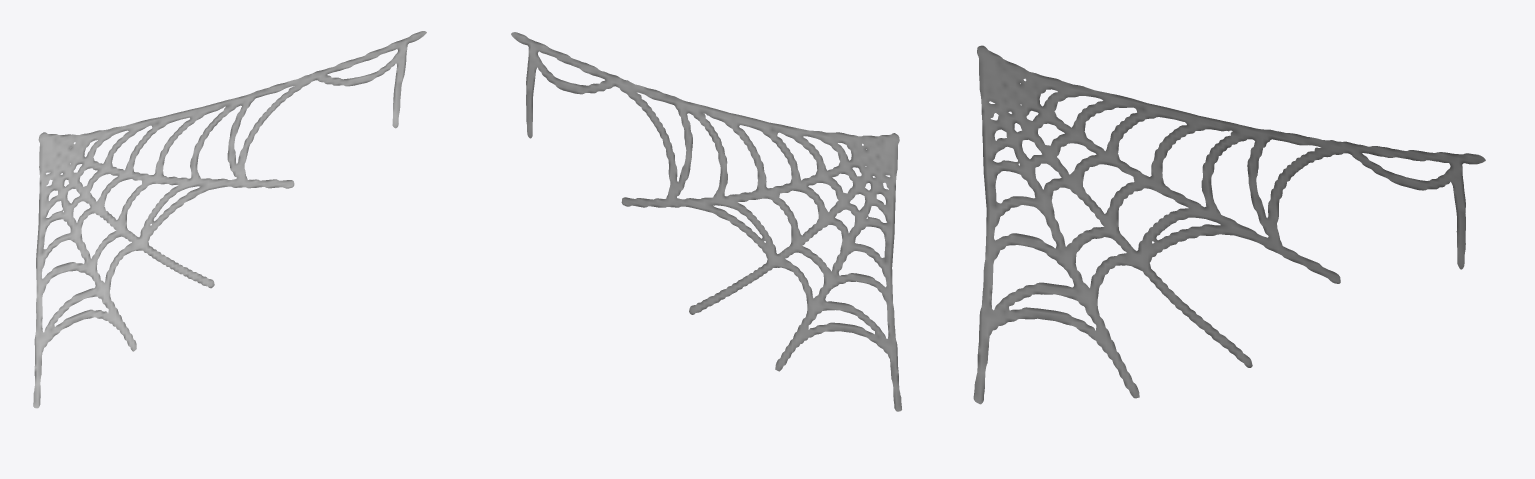
The model's file is prop_cobweb_corner.glb.
The picture shows the model from 3 angles, left to right: view 1: azimuth 30°, elevation 25°; view 2: azimuth 150°, elevation 25°; view 3: azimuth 330°, elevation 25°; orthographic projection. The views are drawn at different scales.
Visible parts, largest first — view 1: SM_Cobwebs_01_Cobwebs_M_0; view 2: SM_Cobwebs_01_Cobwebs_M_0; view 3: SM_Cobwebs_01_Cobwebs_M_0.
Part boxes in pixels (x1,y1,x2,y2): SM_Cobwebs_01_Cobwebs_M_0: (33,31,426,408); SM_Cobwebs_01_Cobwebs_M_0: (511,32,901,411); SM_Cobwebs_01_Cobwebs_M_0: (973,45,1485,404).
Bounding box in the file's own units: 0.6822 × 0.5143 × 0.0533.
1 material, 1 textured.
